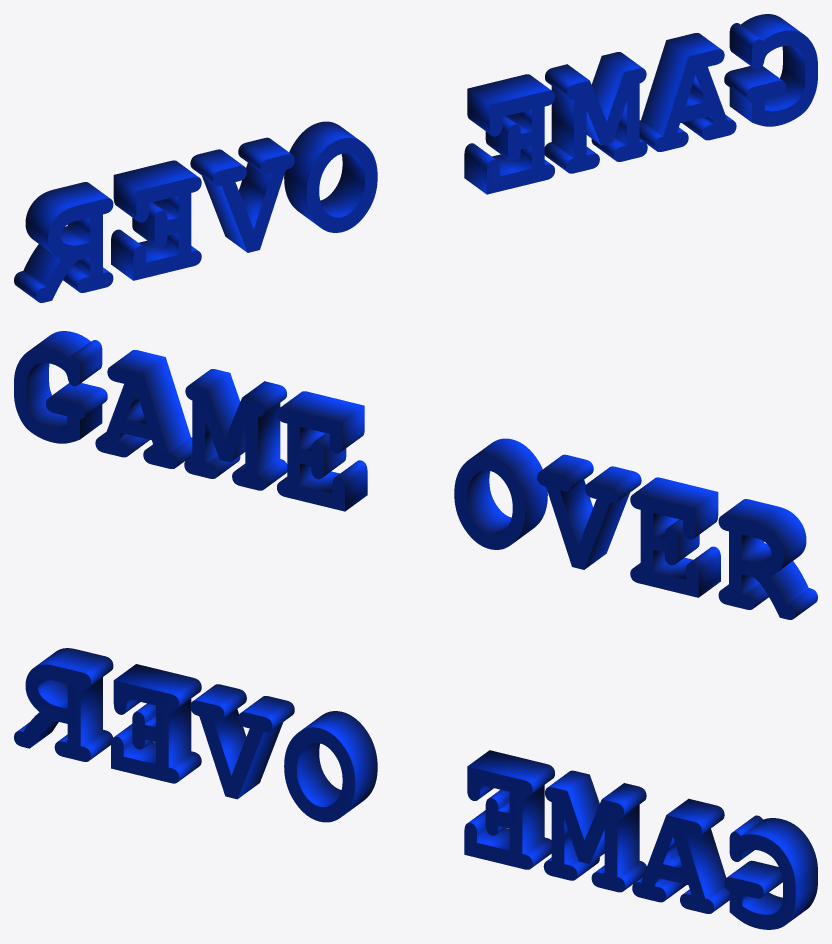
File: OVER.obj
3 views of the same model, one above another, from view 1: azimuth 30°, elevation 25°; view 2: azimuth 150°, elevation 25°; view 3: azimuth 330°, elevation 25° (orthographic).
Visible parts, largest first — view 1: テキスト; view 2: テキスト; view 3: テキスト.
Boxes of the visible parts, x1,y1,x2,y2 form: テキスト: (14, 14, 817, 302); テキスト: (14, 331, 817, 619); テキスト: (14, 648, 817, 929).
Bounding box in the file's own units: 48.23 × 5.51 × 2.4.
Materials: 1 (1 with a texture image).
